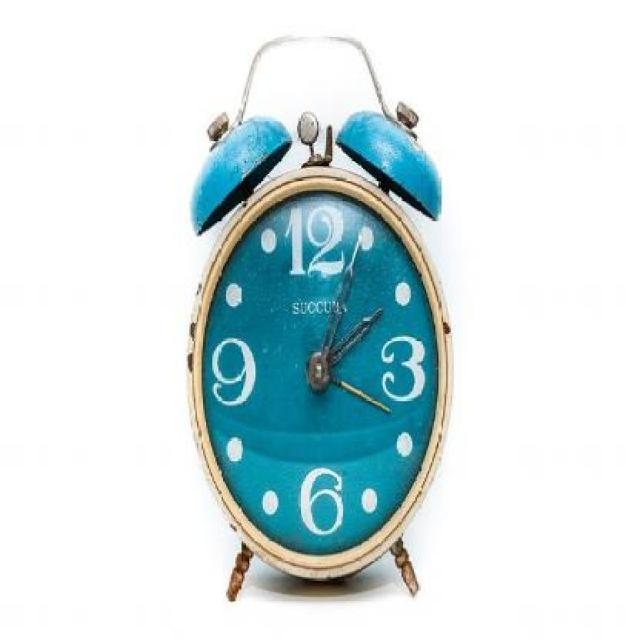clock: (195, 181, 448, 578)
